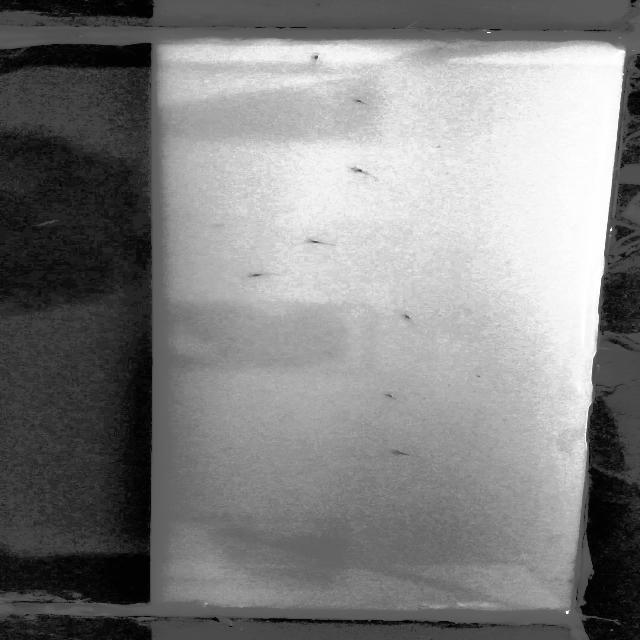shrimp: (390, 447, 412, 462), (390, 311, 418, 321), (348, 96, 373, 106), (346, 166, 371, 176), (240, 270, 265, 279), (309, 51, 325, 65), (308, 238, 326, 248), (381, 391, 392, 401)
